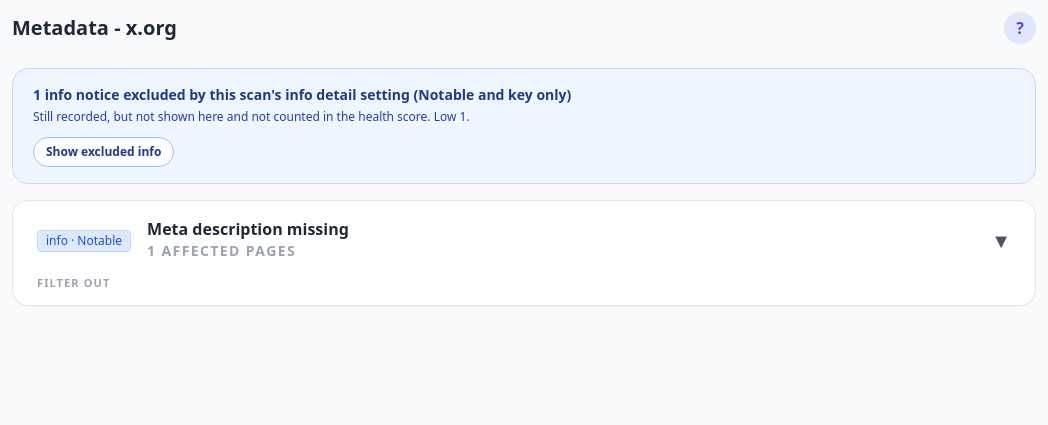
Test: CategoryPanel info detail disclosure › "Show excluded info" requests the full list and dims the unscored rows
Expected: the element with test id "info-detail-disclosure" is shown, [12, 68, 1036, 184]
Click the button with test id "info-detail-toggle" at (104, 152), box [33, 137, 174, 167]
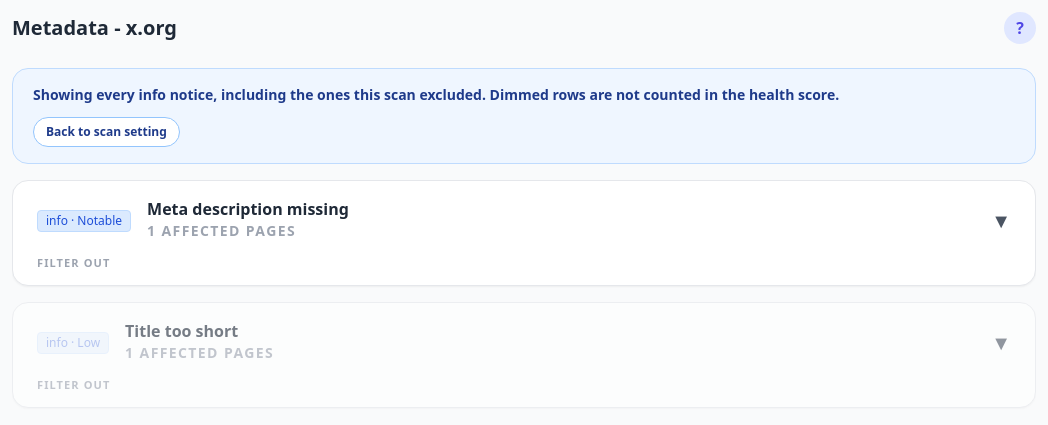
Expected: the text "Title too short" is shown, [125, 320, 238, 342]
Expected: the button with test id "info-detail-toggle" reads "Back to scan setting", [33, 117, 180, 147]
